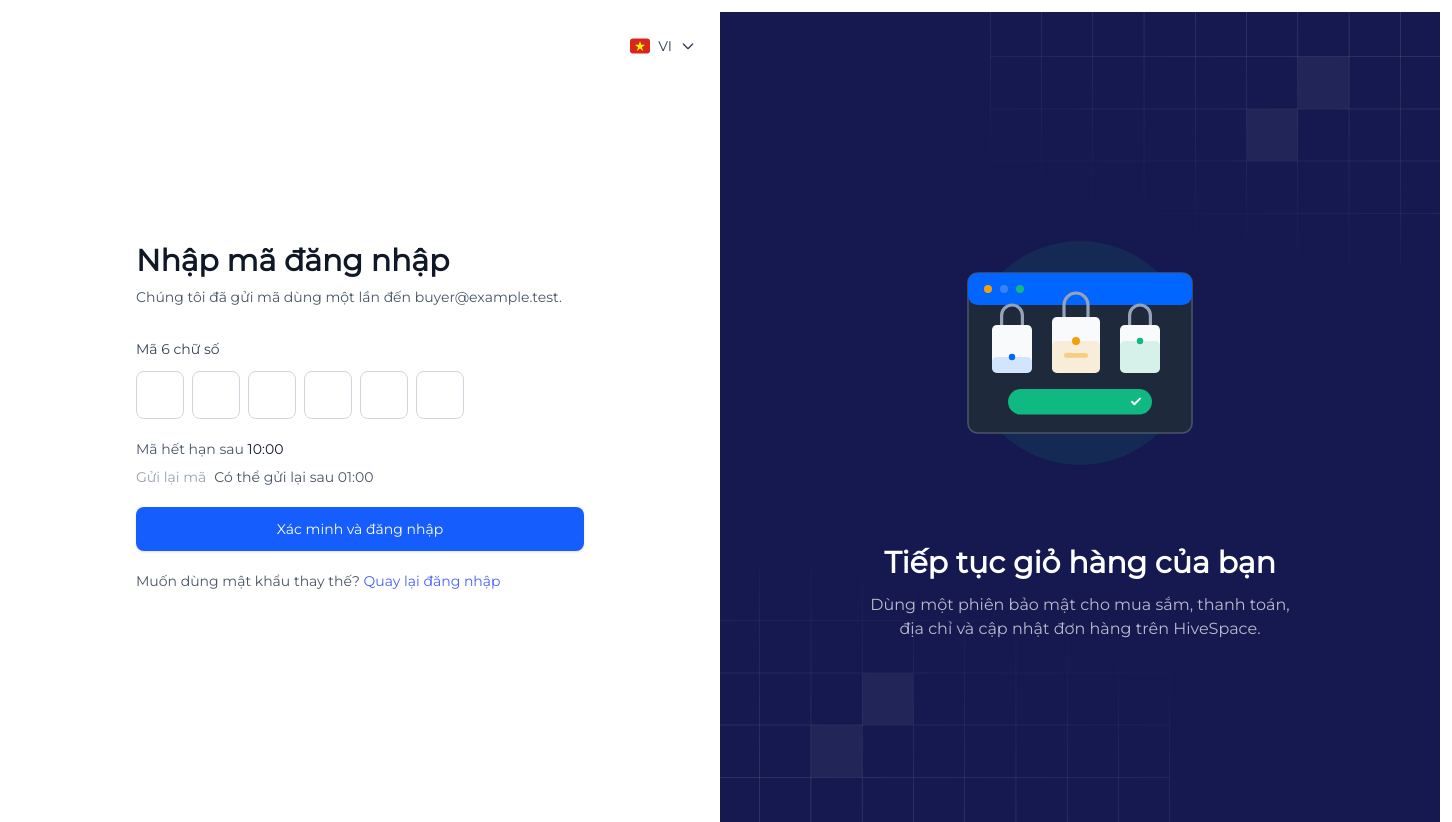
OtpCodeEntryPage (buyer) › shows max-attempt feedback and does not redirect when verification is exhausted
This screenshot has width=1452, height=822.
In the field named "Chữ số 1": x=160, y=395 [136,371,184,419], type "1"
In the field named "Chữ số 2": x=216, y=395 [192,371,240,419], type "2"
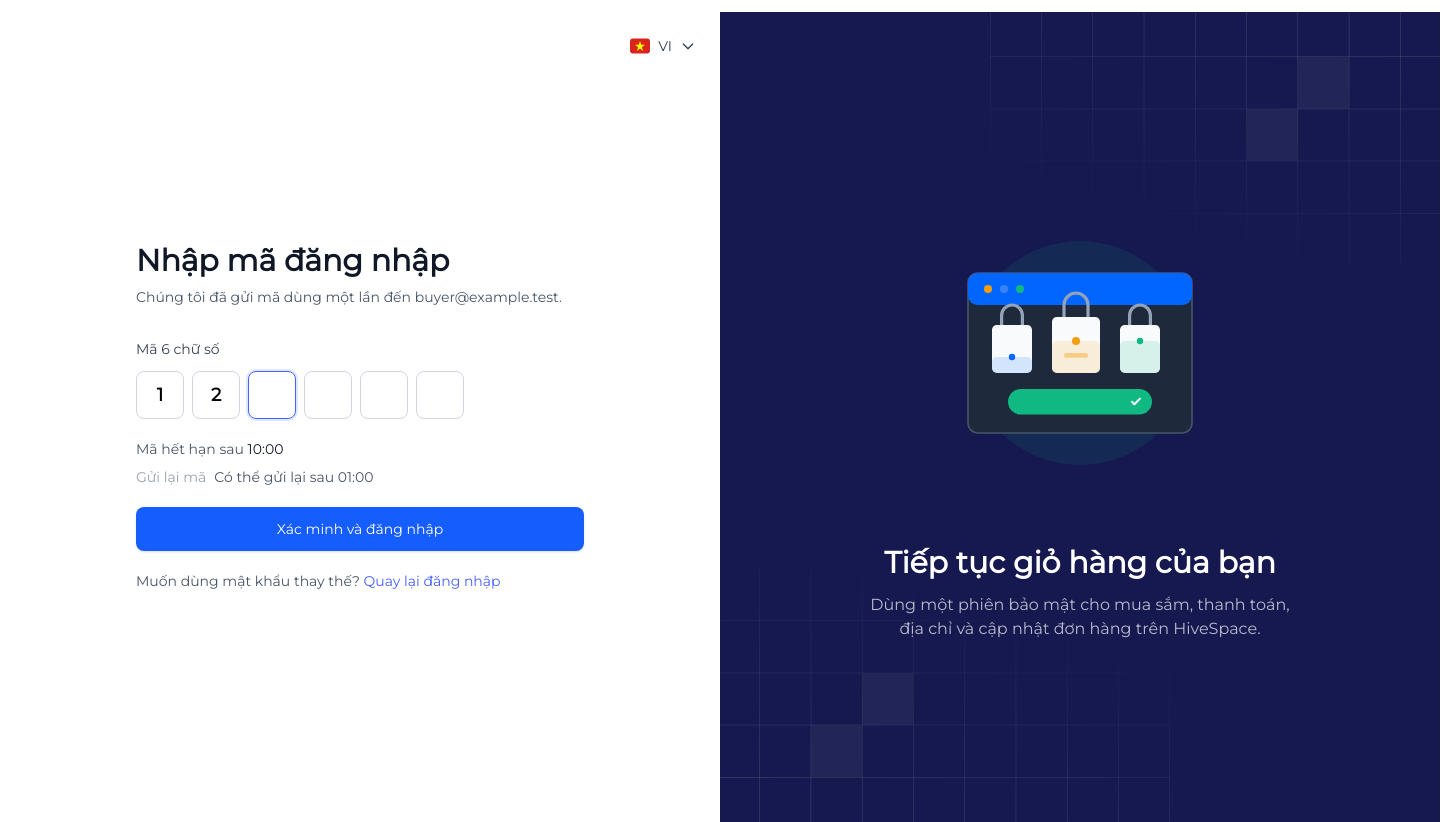
In the field named "Chữ số 3": x=272, y=395 [248,371,296,419], type "3"
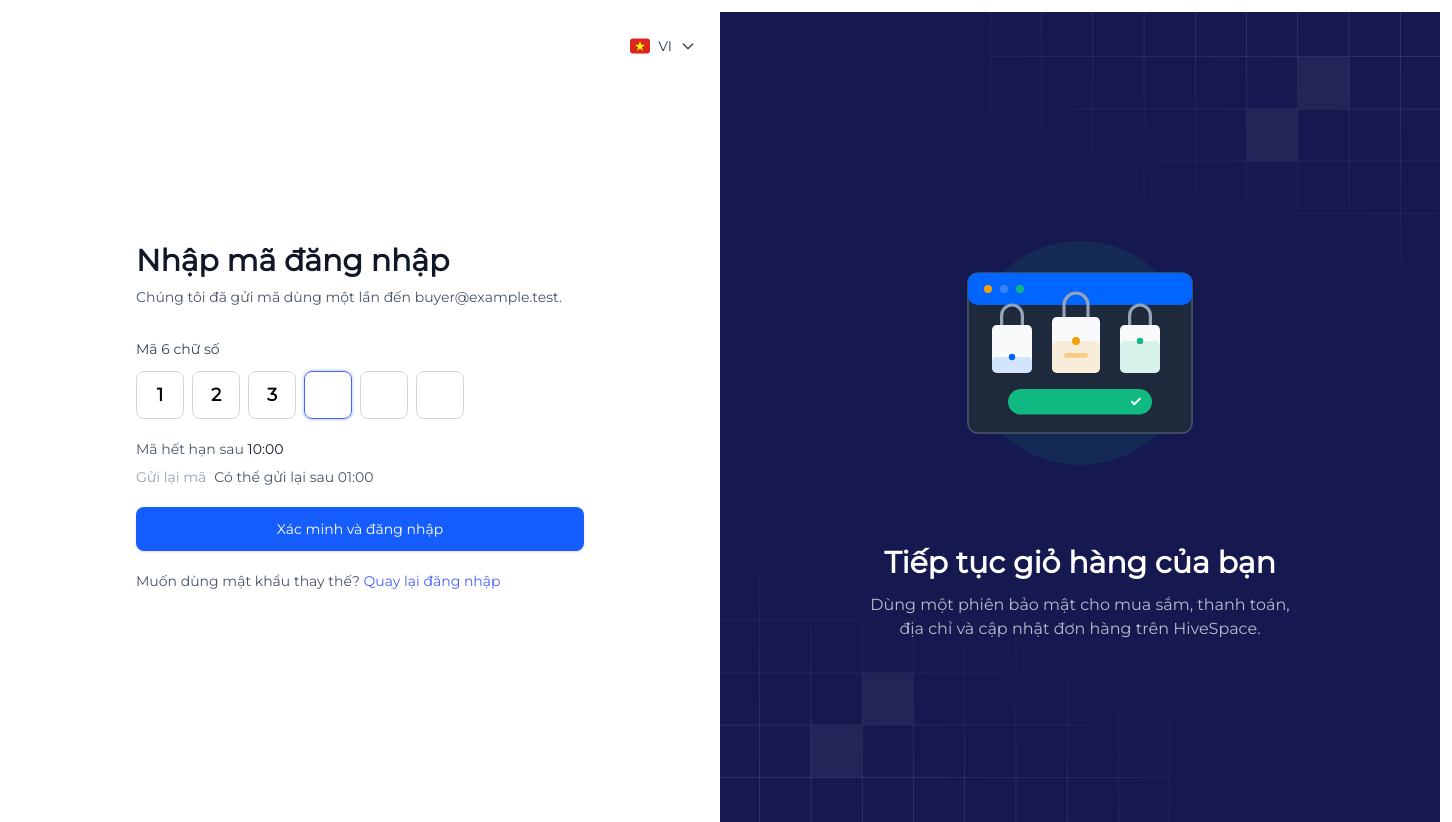
In the field named "Chữ số 4": x=328, y=395 [304,371,352,419], type "4"
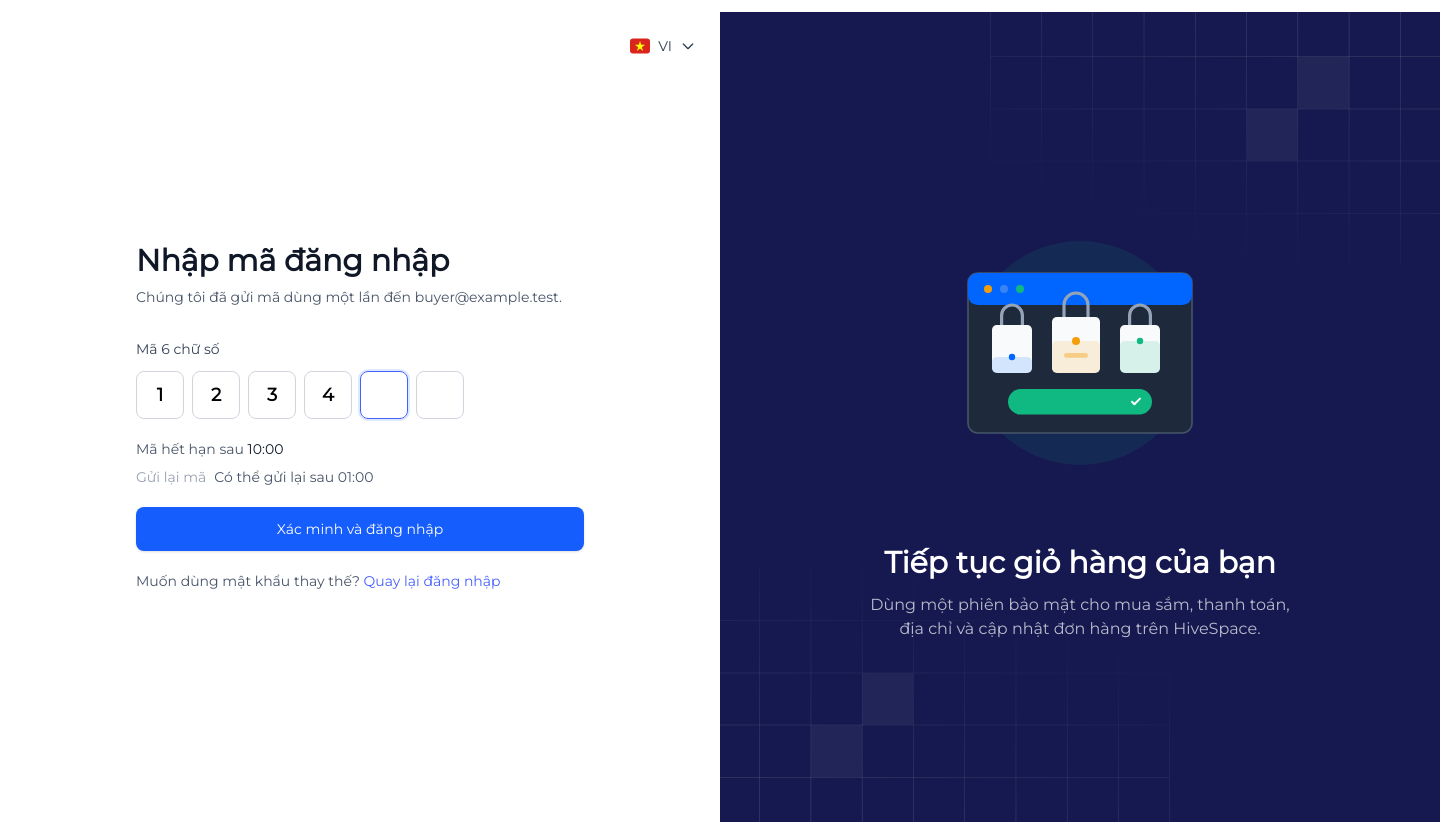
In the field named "Chữ số 5": x=384, y=395 [360,371,408,419], type "5"
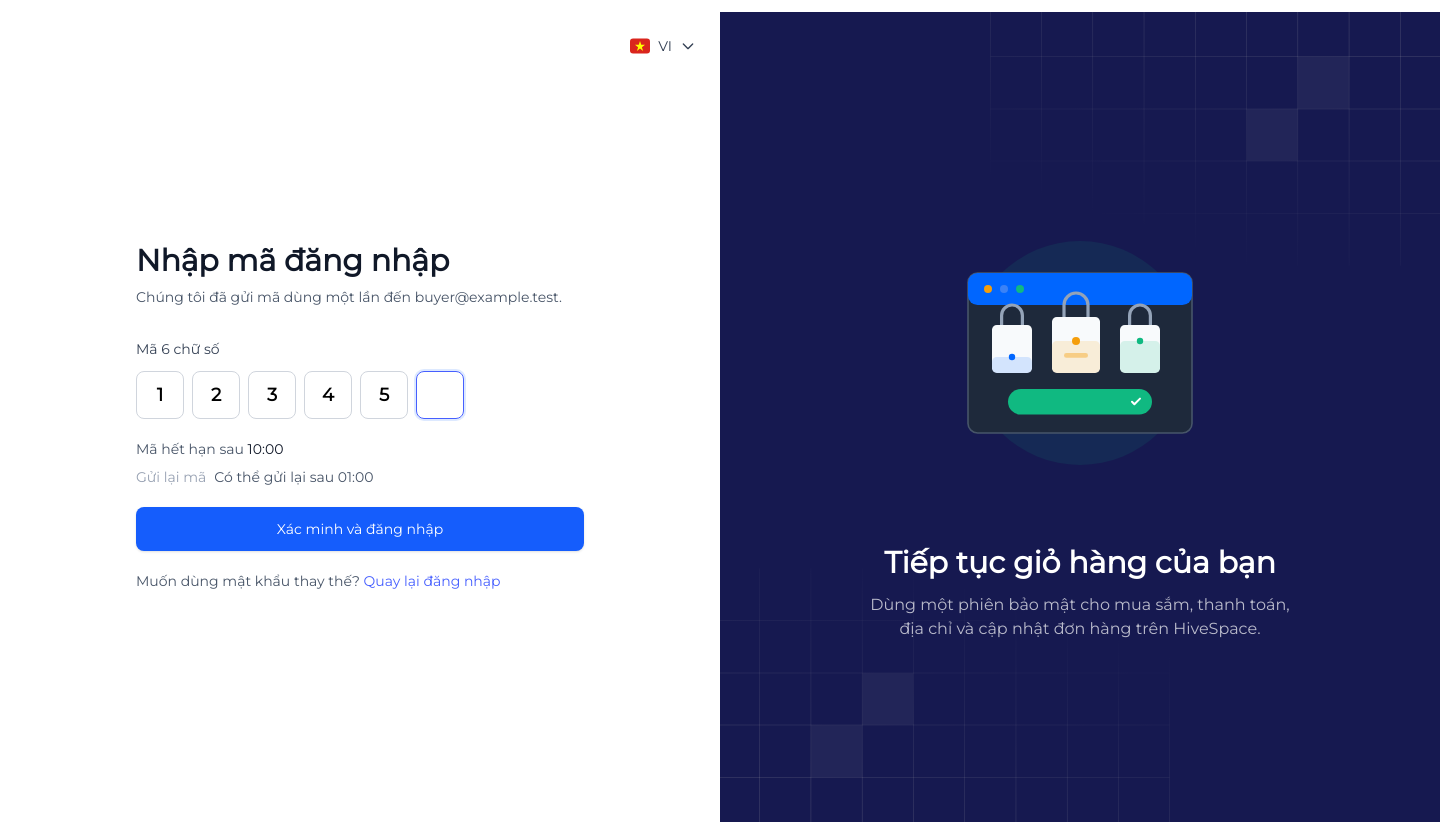
In the field named "Chữ số 6": x=440, y=395 [416,371,464,419], type "6"
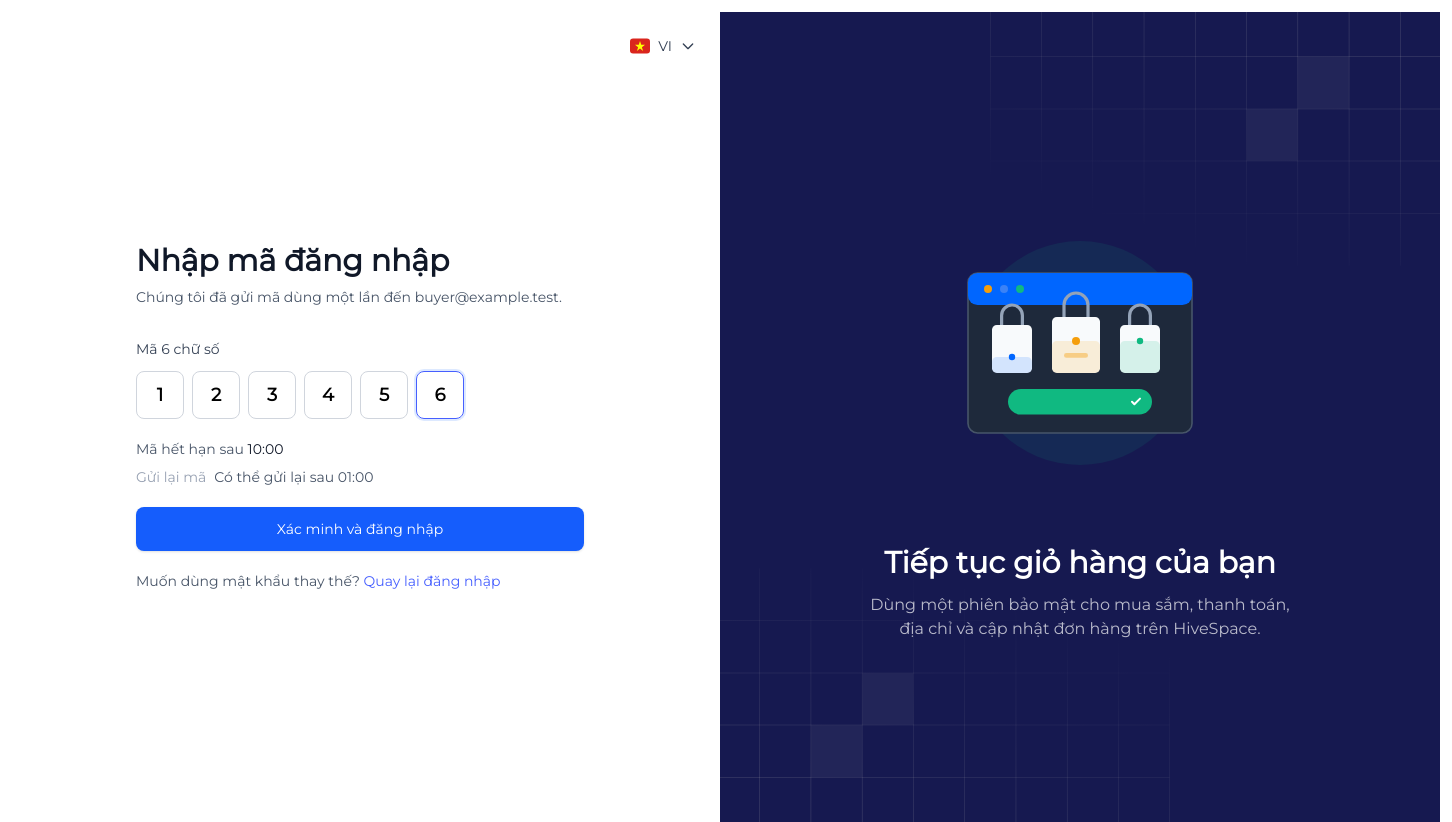
Submit the form named "Xác minh và đăng nhập", box [136,339,584,551]
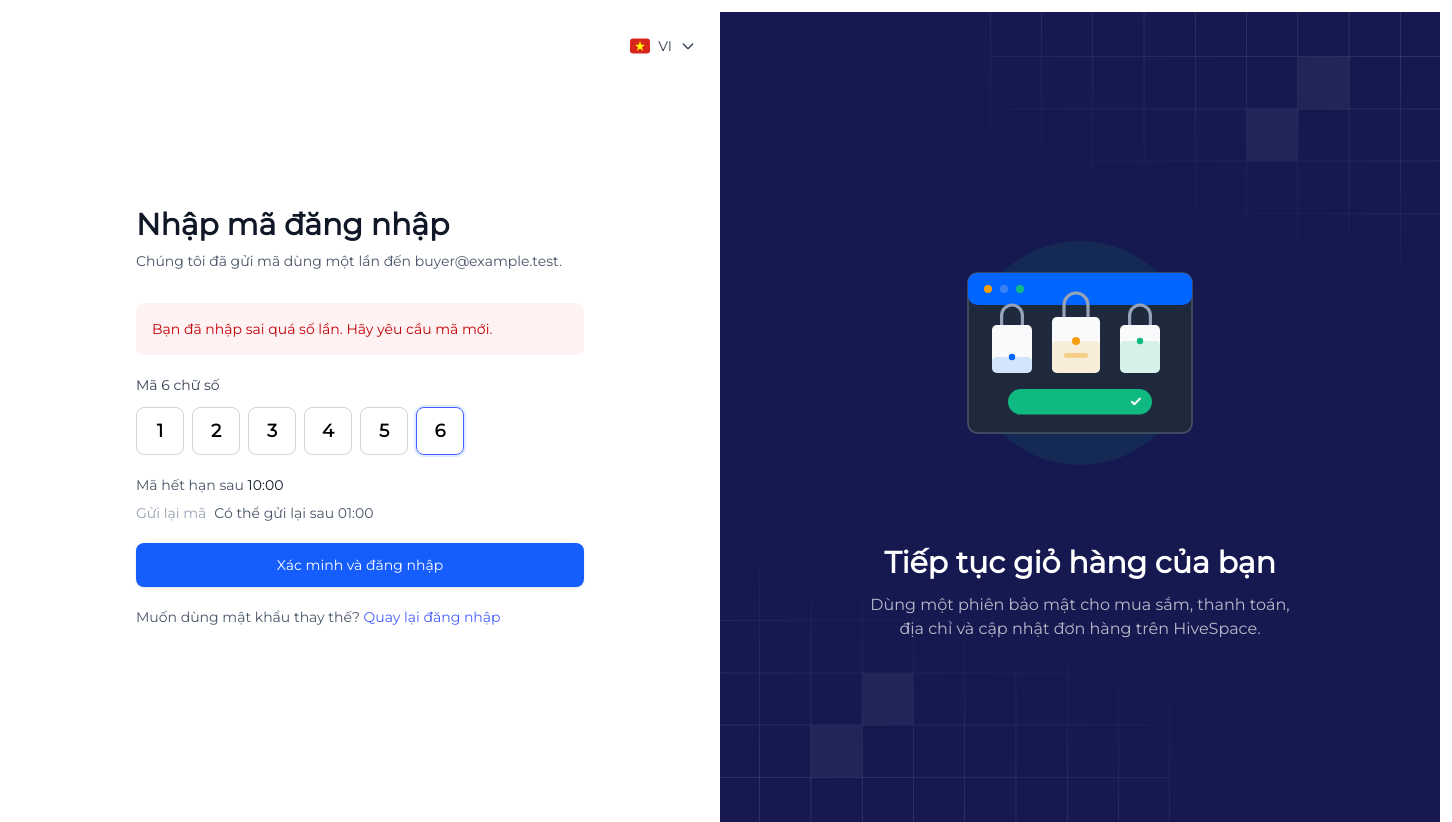
Result: the text "Bạn đã nhập sai quá số lần. Hãy yêu cầu mã mới." is shown at [152,320,492,338]
